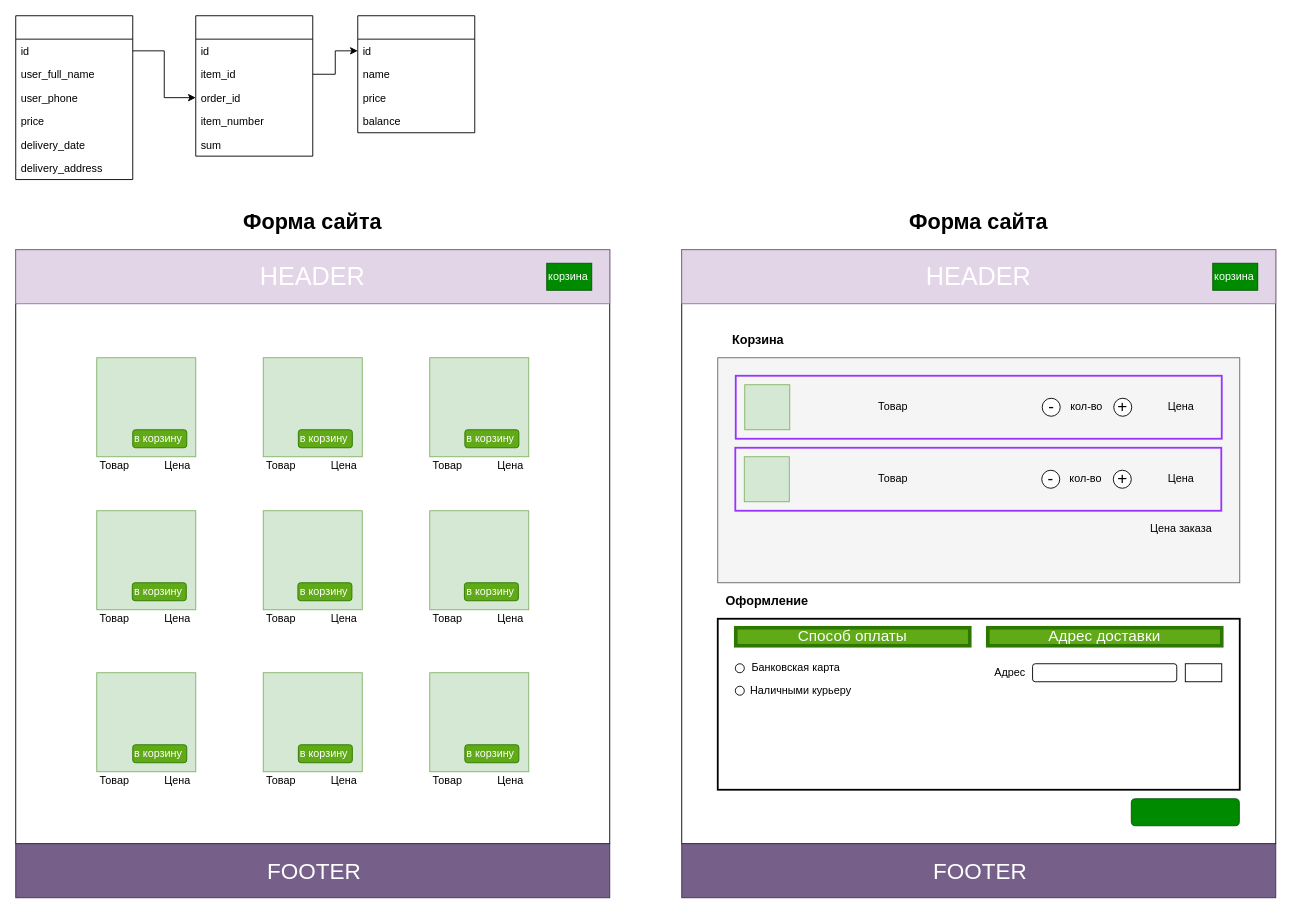
This 1292x914 diagram has some shape labels left out. The box of each missing label's shape, as (x1, y1, x2, y2) in pixels:
ITEMS: (357, 15, 475, 133)
ORDER_ROWS: (195, 15, 313, 156)
ORDERS: (15, 15, 133, 180)
Введите адрес доставки: (1032, 663, 1177, 682)
Карта: (1184, 663, 1222, 682)
ОФОРМИТЬ: (1130, 798, 1239, 826)
